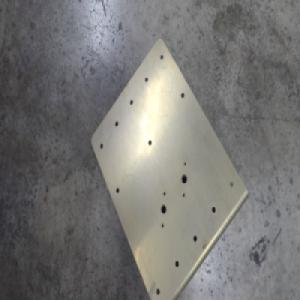MetalSheet: (89, 37, 249, 300)
